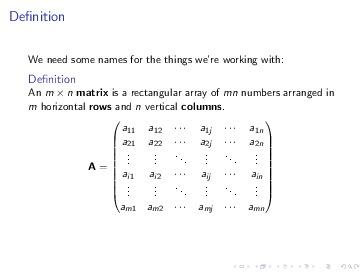paragraph: (21, 45, 341, 223)
title: (8, 4, 69, 31)
